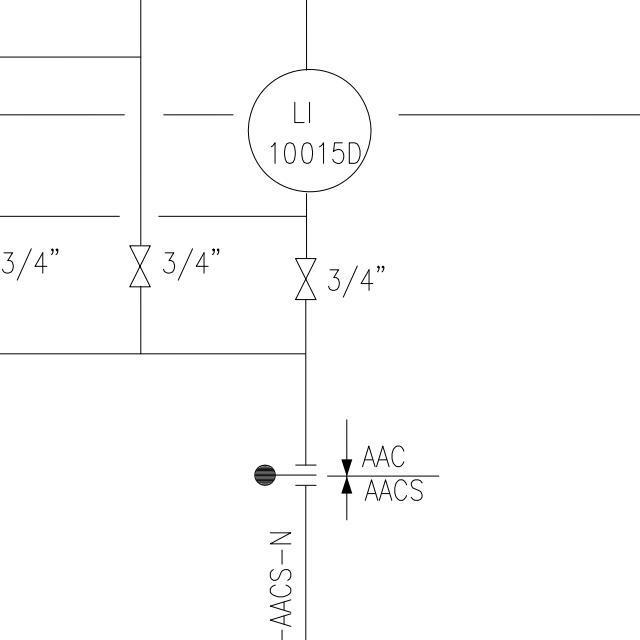GV: (125, 240, 154, 295), (292, 251, 320, 307)
